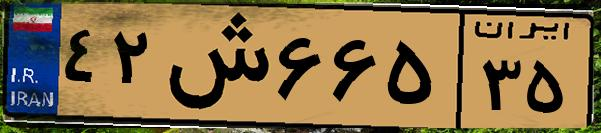2: (110, 28, 158, 98)
3: (475, 38, 525, 113)
4: (57, 26, 110, 100)
5: (385, 28, 445, 110), (525, 38, 570, 115)
6: (270, 28, 330, 110), (330, 28, 385, 110)
ش: (158, 12, 270, 120)
